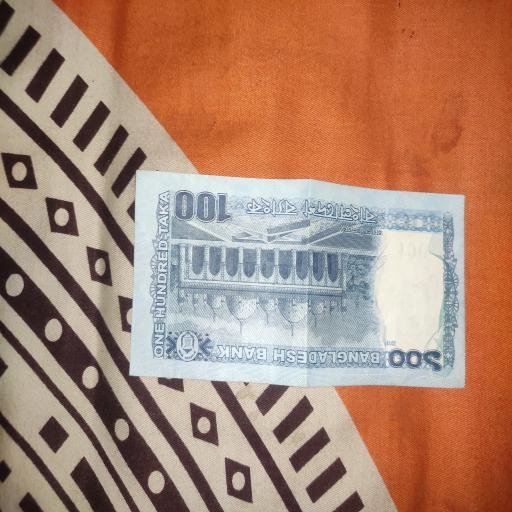100taka: (129, 170, 465, 387)
